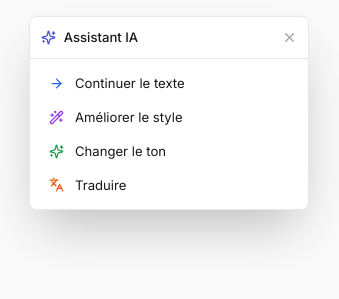
Scenario: AIContextMenu › Error Handling › should display error message on API failure
Click the button "Continuer le texte". click: (169, 84)
box: [38, 67, 300, 101]
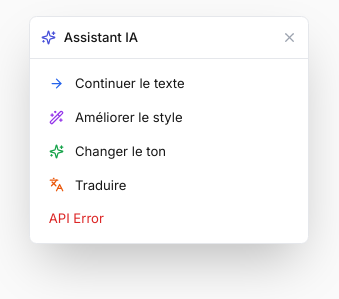
expect the text "API Error" is shown: met, box [49, 210, 104, 226]
